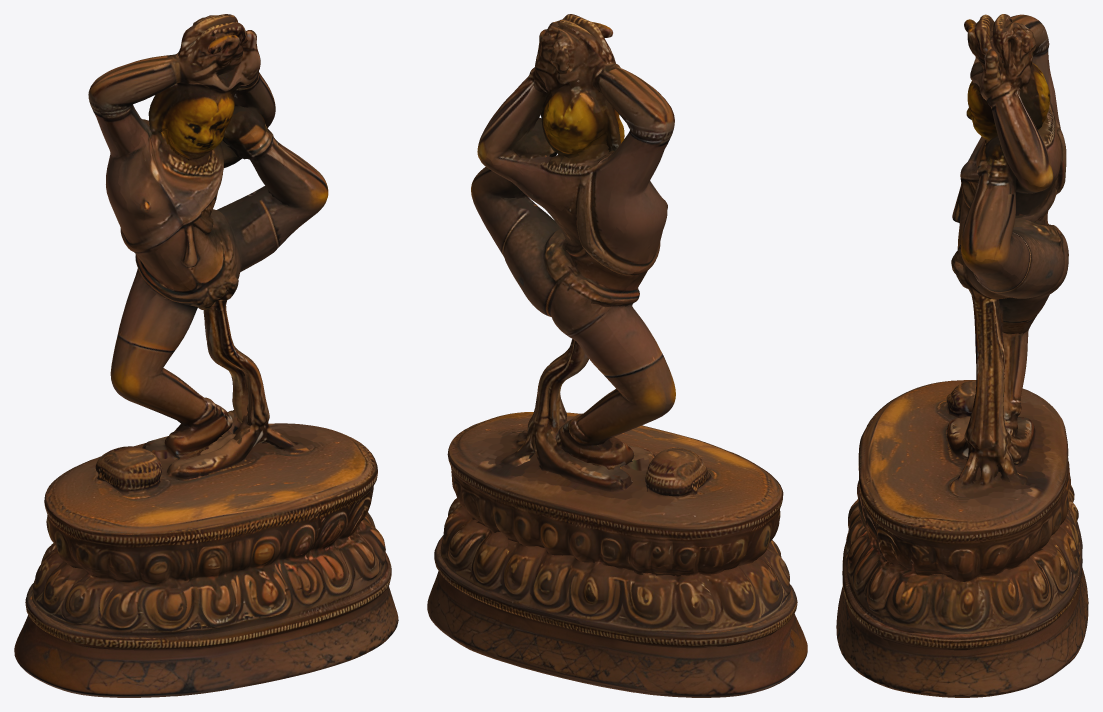
3 views of the same model, side by side, from view 1: azimuth 30°, elevation 25°; view 2: azimuth 150°, elevation 25°; view 3: azimuth 270°, elevation 25° (orthographic). The views are drawn at different scales.
Parts seen in each view (by area): view 1: textured_mesh; view 2: textured_mesh; view 3: textured_mesh.
Part boxes in pixels (left/top/right/bottom): textured_mesh: left=14, top=14, right=398, bottom=697; textured_mesh: left=427, top=14, right=807, bottom=697; textured_mesh: left=836, top=14, right=1088, bottom=697.
Size of the model in its own units: 1.2 by 1.99 by 0.7448.
Materials: 1 (1 with a texture image).
